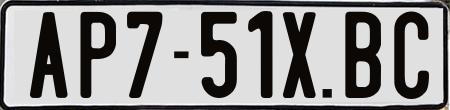1: (248, 9, 273, 98)
5: (198, 10, 239, 98)
7: (126, 9, 164, 95)
A: (29, 11, 69, 97)
B: (344, 9, 383, 98)
C: (393, 8, 433, 101)
P: (78, 9, 118, 97)
X: (283, 9, 320, 99)
